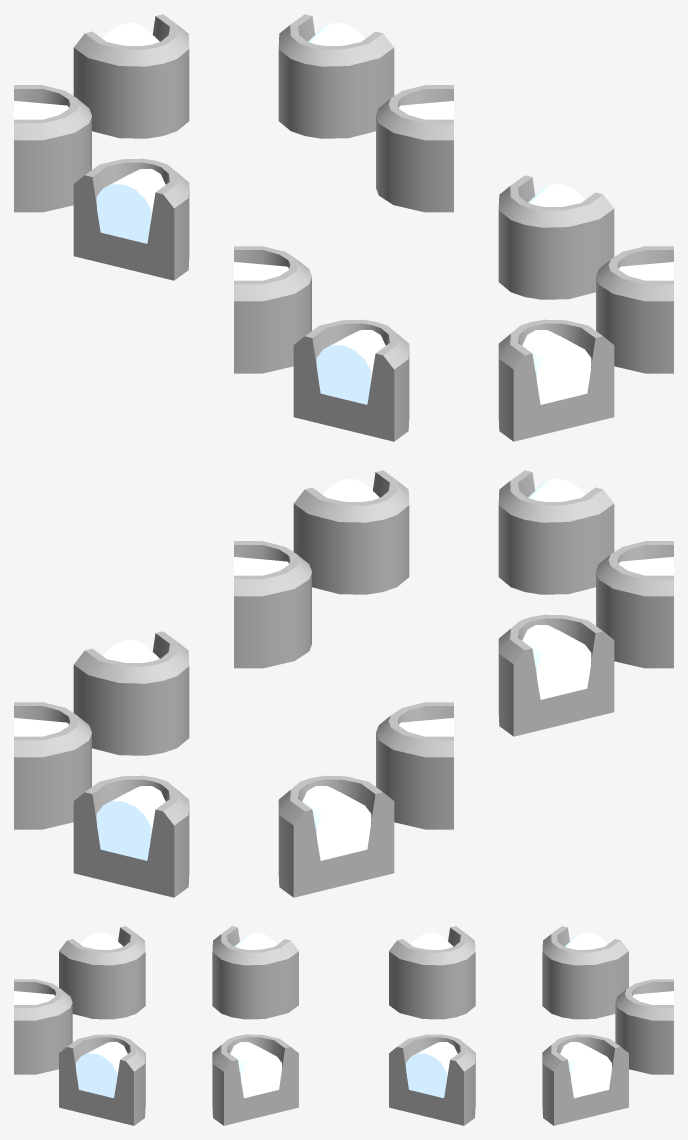
File: SM_Module_PowerSocket_Hex2.fbx
The picture shows the model from 3 angles, top to bottom: view 1: azimuth 30°, elevation 25°; view 2: azimuth 150°, elevation 25°; view 3: azimuth 270°, elevation 25°; orthographic projection. The views are drawn at different scales.
Parts seen in each view (by area): view 1: SM_Module_PowerSocket; view 2: SM_Module_PowerSocket; view 3: SM_Module_PowerSocket.
Part boxes in pixels (bbox=[...]): SM_Module_PowerSocket: bbox=[14, 14, 673, 441]; SM_Module_PowerSocket: bbox=[14, 470, 673, 897]; SM_Module_PowerSocket: bbox=[14, 926, 673, 1125].
Size of the model in its own units: 3.46 by 6.93 by 0.7294.
